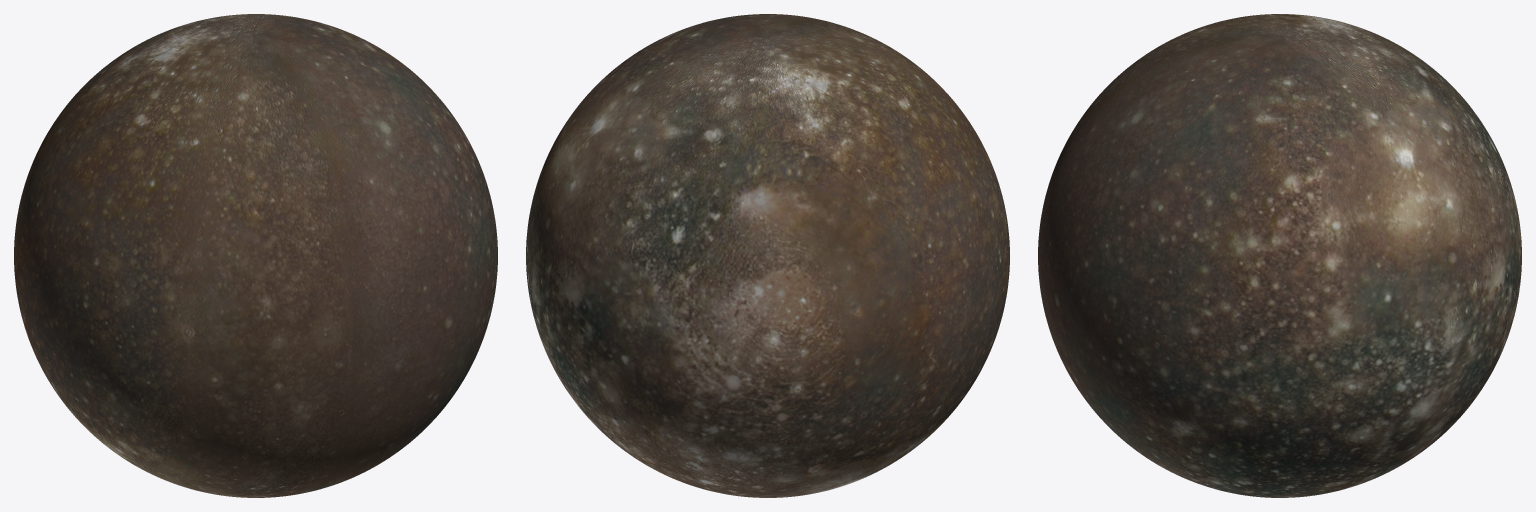
Rendered from calisto.glb.
The picture shows the model from 3 angles, left to right: view 1: azimuth 30°, elevation 25°; view 2: azimuth 150°, elevation 25°; view 3: azimuth 270°, elevation 25°; orthographic projection.
Visible parts, largest first — view 1: Geode; view 2: Geode; view 3: Geode.
Boxes of the visible parts, x1,y1,x2,y2 form: Geode: (14,14,497,497); Geode: (526,14,1009,497); Geode: (1038,14,1521,497).
Bounding box in the file's own units: 200 × 200 × 200.
1 material, 1 textured.
